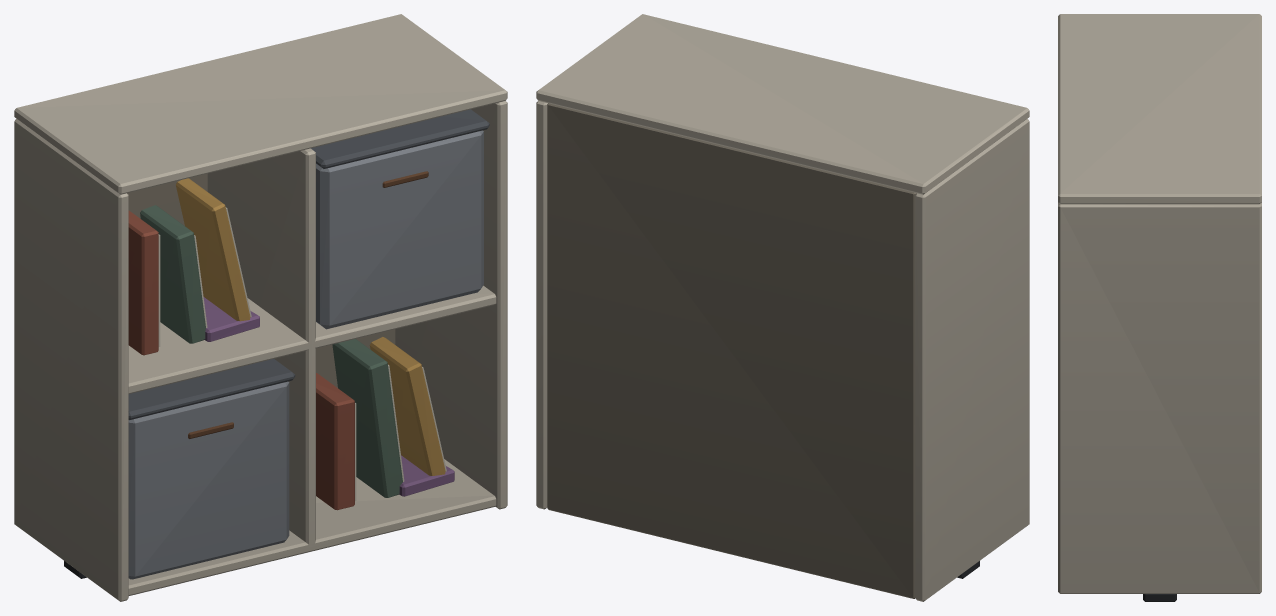
Rendered from storage_cubes.glb.
The picture shows the model from 3 angles, left to right: view 1: azimuth 30°, elevation 25°; view 2: azimuth 150°, elevation 25°; view 3: azimuth 270°, elevation 25°; orthographic projection. The views are drawn at different scales.
Parts seen in each view (by area): view 1: storage_cubes; view 2: storage_cubes; view 3: storage_cubes.
Boxes of the visible parts, x1,y1,x2,y2 form: storage_cubes: (14, 14, 507, 601); storage_cubes: (536, 14, 1029, 601); storage_cubes: (1058, 14, 1261, 601).
Size of the model in its own units: 0.76 by 0.8 by 0.36.
